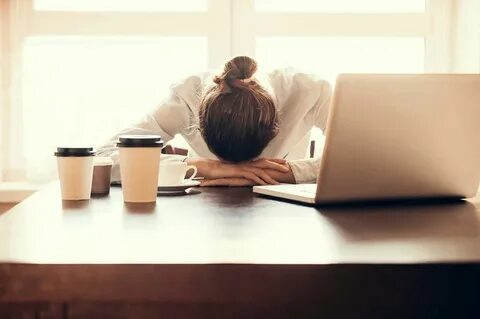sleep: (105, 56, 338, 191)
